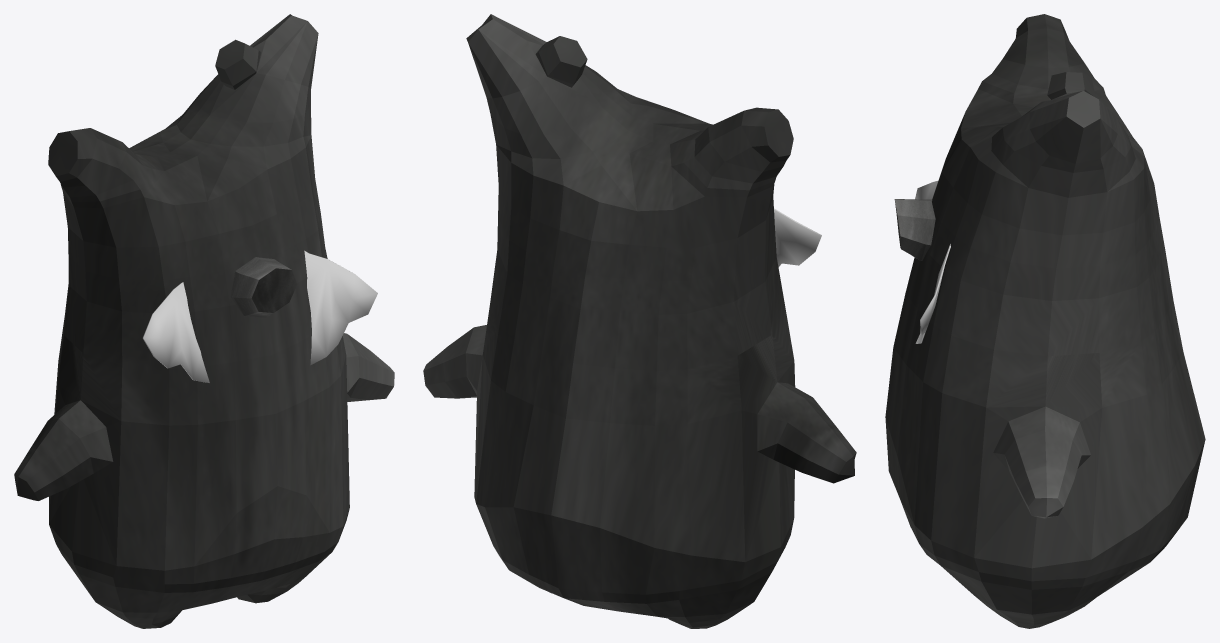
File: frame_0071.obj
3 views of the same model, side by side, from view 1: azimuth 30°, elevation 25°; view 2: azimuth 150°, elevation 25°; view 3: azimuth 270°, elevation 25° (orthographic). The views are drawn at different scales.
Parts seen in each view (by area): view 1: korok, leaf, nose; view 2: korok, leaf; view 3: korok, nose, leaf.
Part boxes in pixels (x1,y1,x2,y2): korok: [14, 14, 394, 628]; leaf: [142, 250, 377, 382]; nose: [230, 257, 297, 317]; korok: [423, 14, 856, 628]; leaf: [774, 208, 821, 267]; korok: [885, 14, 1205, 628]; nose: [894, 199, 935, 260]; leaf: [915, 181, 950, 343].
Bounding box in the file's own units: 1.68 × 2.27 × 1.17.
